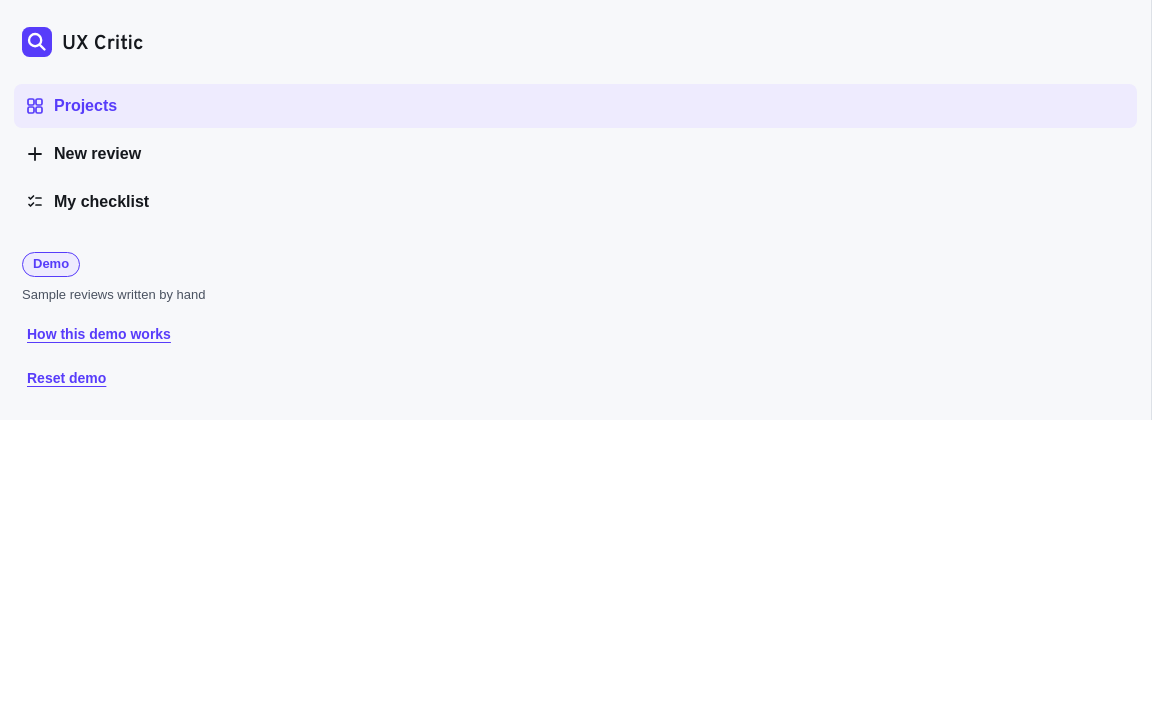
Test: Sidebar › asks once before Reset demo, focuses Keep my changes, then clears storage
Step 1. Click the button "Reset demo" → click(67, 378), box [22,356,111,400]
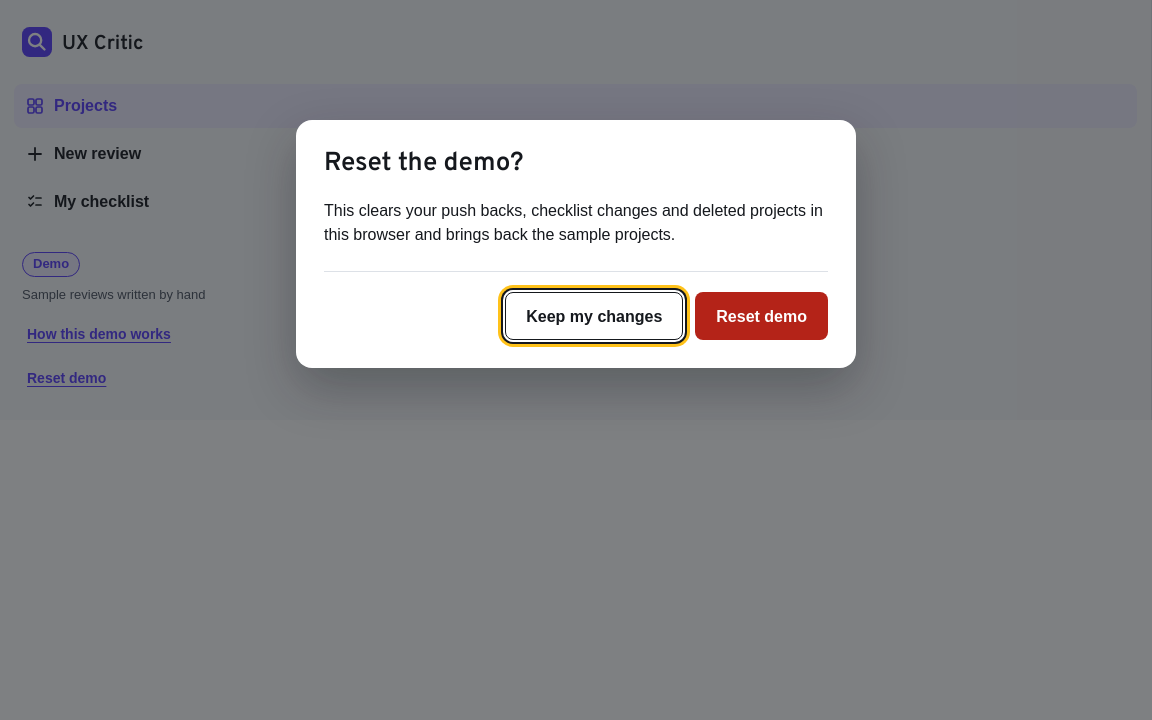
Step 2. Click the button "Reset demo" below "Reset the demo?" → click(762, 316), box [695,292,828,340]
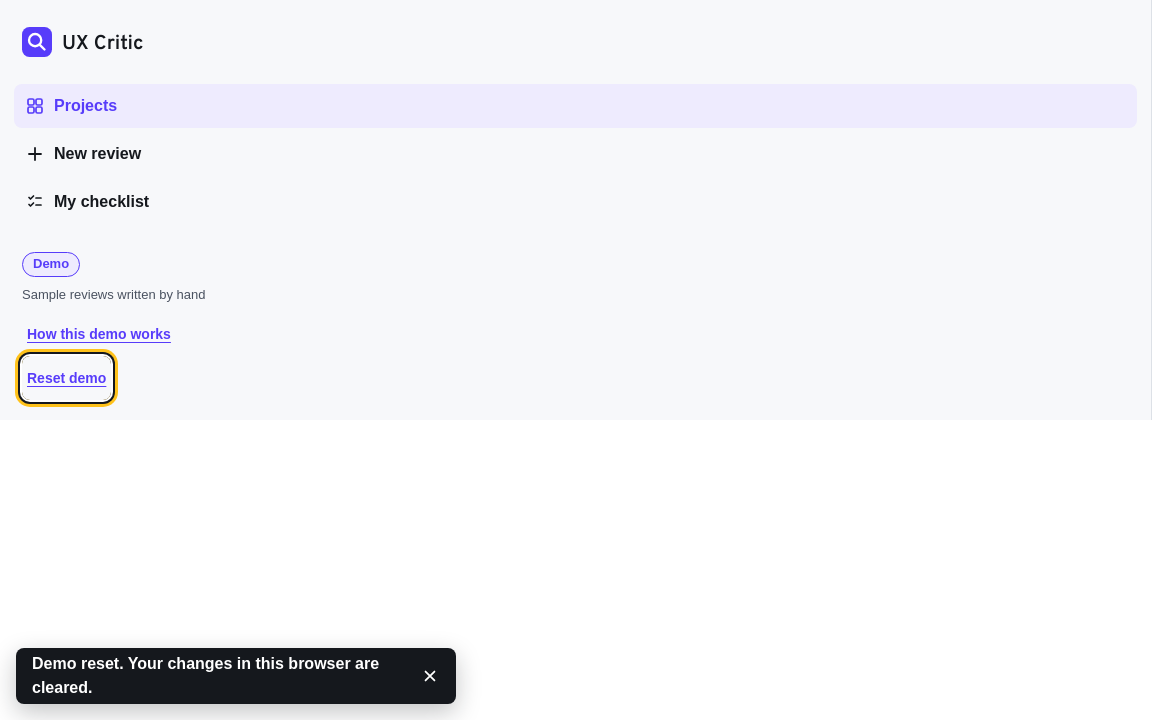
Result: the dialog is gone
Result: the text "Demo reset. Your changes in this browser are cleared." is shown at [32,652,400,700]
